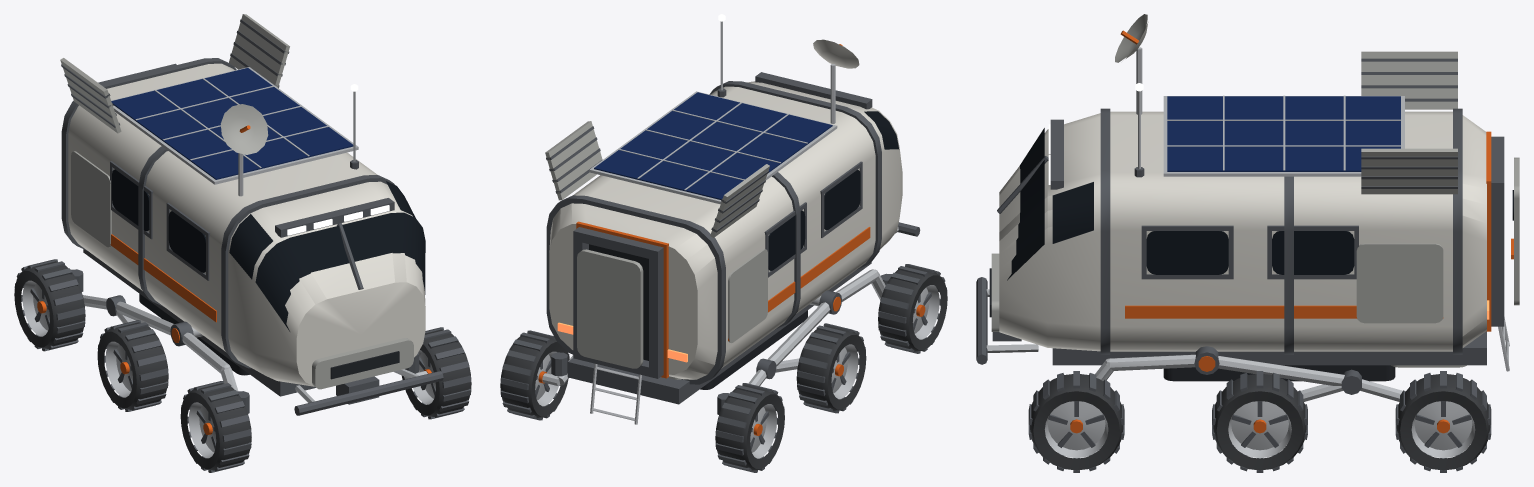
File: rover_crew.glb
3 views of the same model, side by side, from view 1: azimuth 30°, elevation 25°; view 2: azimuth 150°, elevation 25°; view 3: azimuth 270°, elevation 25° (orthographic). The views are drawn at different scales.
Parts seen in each view (by area): view 1: body, wheel_rr, wheel_fr, wheel_mr, wheel_fl, rocker_r, bogie_r; view 2: body, hatch, wheel_fr, wheel_rr, wheel_mr, wheel_rl, rocker_r, bogie_r, bogie_l; view 3: body, wheel_fl, wheel_rl, wheel_ml, rocker_l, bogie_l, hatch.
Part boxes in pixels (x1,y1,x2,y2): body: (60, 14, 443, 415); wheel_rr: (14, 259, 85, 351); wheel_fr: (180, 381, 251, 472); wheel_mr: (97, 320, 168, 411); wheel_fl: (402, 327, 471, 419); rocker_r: (116, 301, 249, 413); bogie_r: (71, 269, 134, 323); body: (545, 14, 920, 424); hatch: (577, 249, 643, 368); wheel_fr: (878, 264, 947, 353); wheel_rr: (715, 383, 784, 472); wheel_mr: (796, 323, 866, 413); wheel_rl: (500, 330, 569, 420); rocker_r: (767, 269, 892, 366); bogie_r: (717, 358, 799, 414); bogie_l: (542, 352, 573, 385); body: (976, 14, 1509, 381); wheel_fl: (1028, 371, 1124, 472); wheel_rl: (1395, 371, 1491, 472); wheel_ml: (1212, 371, 1307, 472); rocker_l: (1095, 346, 1344, 385); bogie_l: (1301, 369, 1402, 401); hatch: (1511, 157, 1519, 305).
Size of the model in its own units: 3.32 by 4.1 by 5.63.
